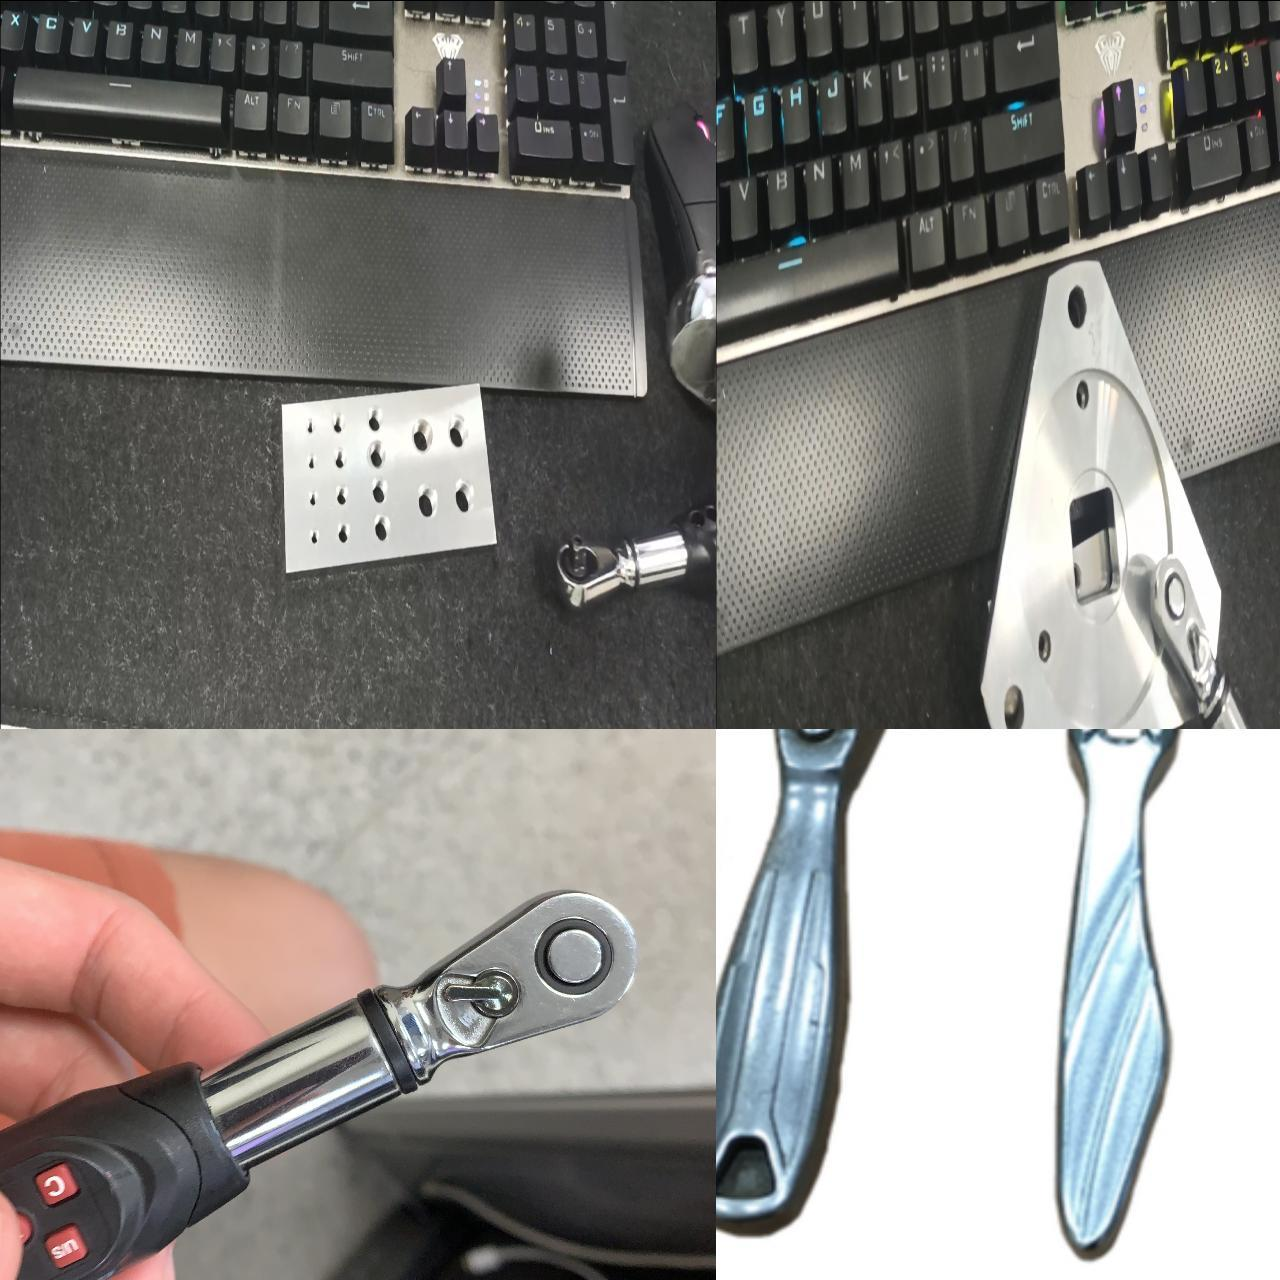Tool: (383, 886, 644, 1083), (1152, 558, 1216, 701)
